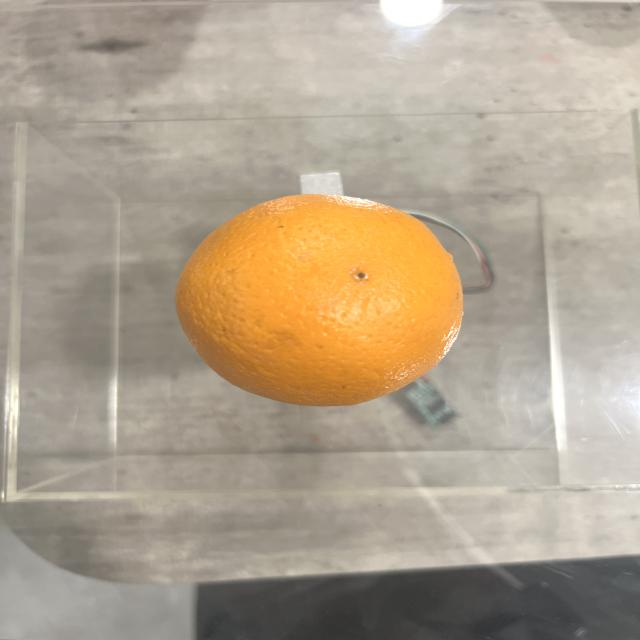orange: (178, 193, 464, 404)
